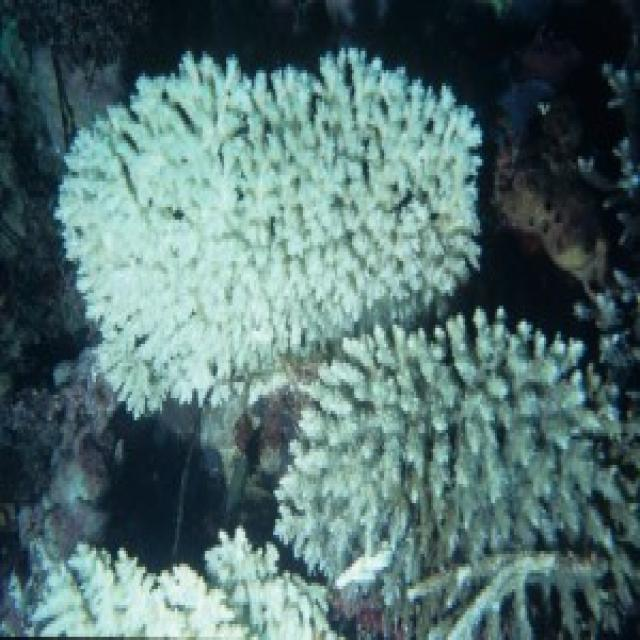Bleached: (61, 49, 481, 415), (276, 310, 639, 638), (3, 530, 340, 638)
